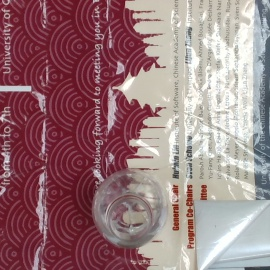bottle: (93, 171, 168, 247)
